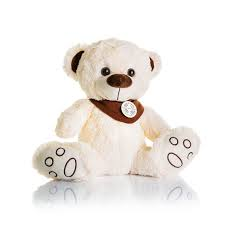teddy: (12, 31, 218, 201)
